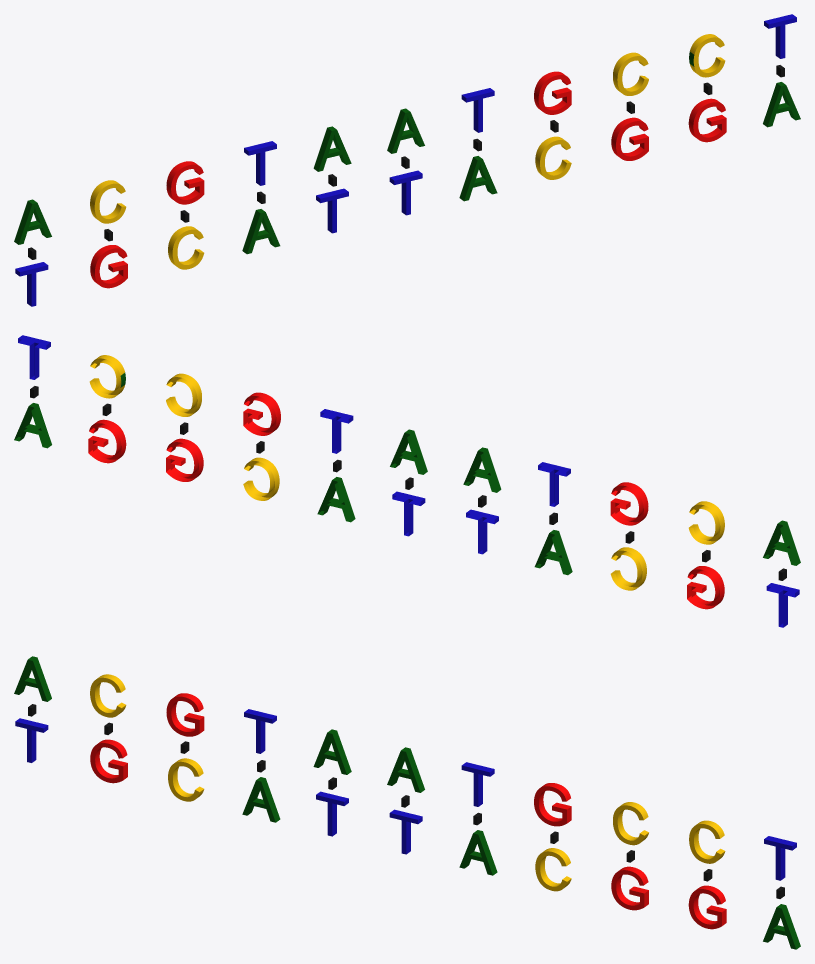
Rendered from Nucleotides.FBX.
3 renders of one model, top to bottom at view 1: azimuth 30°, elevation 25°; view 2: azimuth 150°, elevation 25°; view 3: azimuth 330°, elevation 25°, orthographic.
Visible parts, largest first — view 1: Group001, G2, G5, G3, G1, G4, C2, C3, C1, A2, A4, C5 (+11 smaller); view 2: Group001, G2, G5, G3, G1, G4, C2, C3, C1, A2, A4, C5 (+11 smaller); view 3: Group001, G5, G1, G2, G4, G3, A5, A4, A1, A6, A2, A3 (+11 smaller).
Part boxes in pixels (box(x1,y1,x2,y2)): Group001: box(28, 65, 784, 259); G2: box(166, 161, 204, 204); G5: box(688, 98, 726, 142); G3: box(534, 71, 571, 114); G1: box(90, 245, 127, 288); G4: box(611, 117, 648, 160); C2: box(168, 226, 204, 269); C3: box(535, 136, 571, 179); C1: box(90, 180, 126, 223); A2: box(242, 209, 280, 254); A4: box(387, 108, 424, 153); C5: box(689, 34, 725, 77); Group001: box(30, 386, 786, 580); G2: box(610, 482, 648, 525); G5: box(88, 419, 126, 463); G3: box(243, 392, 280, 435); G1: box(687, 566, 724, 609); G4: box(166, 438, 203, 481); C2: box(610, 547, 646, 590); C3: box(243, 457, 279, 500); C1: box(688, 501, 724, 544); A2: box(534, 530, 572, 575); A4: box(390, 429, 427, 474); C5: box(89, 355, 125, 398); Group001: box(28, 704, 784, 898); G5: box(688, 885, 726, 929); G1: box(90, 739, 127, 783); G2: box(166, 693, 204, 736); G4: box(611, 866, 648, 910); G3: box(534, 783, 571, 826); A5: box(459, 830, 497, 875); A4: box(387, 747, 424, 792); A1: box(14, 656, 51, 701); A6: box(763, 904, 800, 949); A2: box(242, 777, 280, 822); A3: box(313, 729, 351, 774).
Size of the model in its own units: 97.7 by 1 by 12.4.
